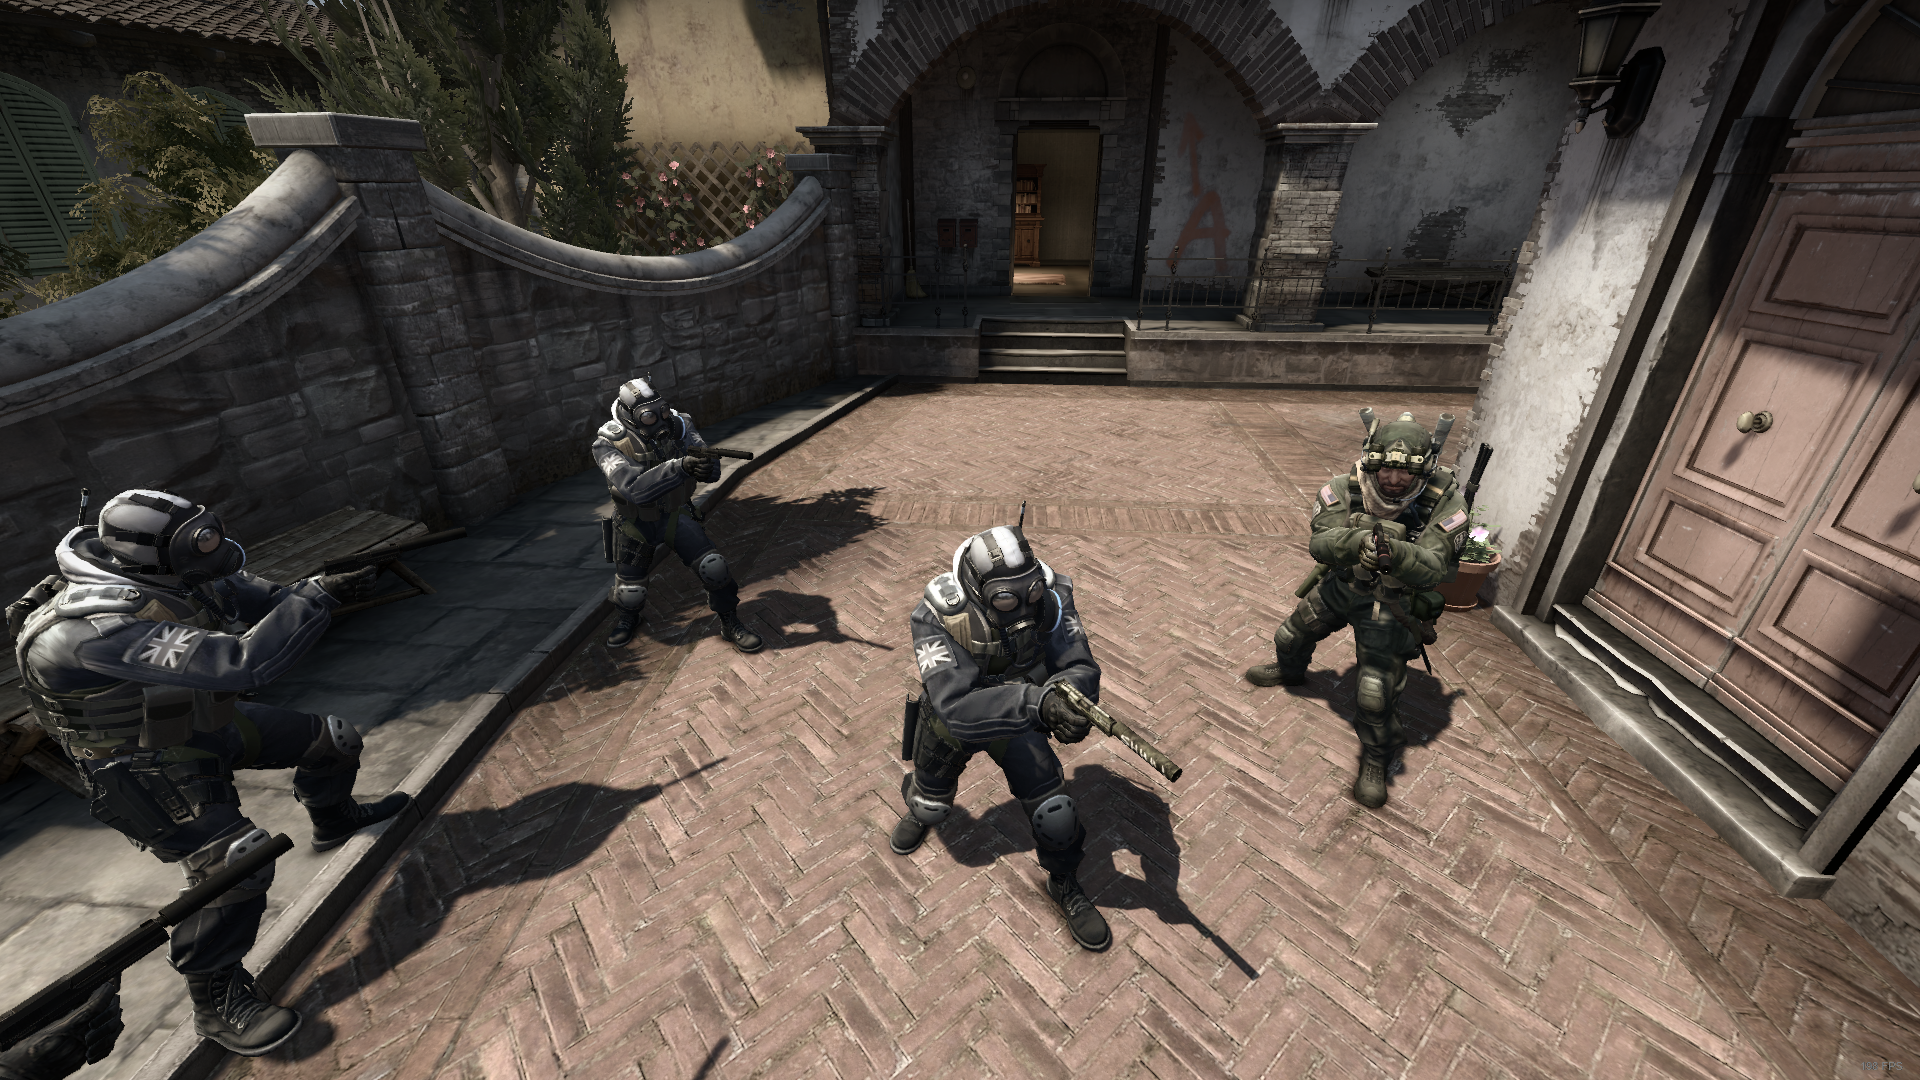ct: (7, 487, 410, 1051), (887, 522, 1116, 956), (591, 377, 764, 651)
